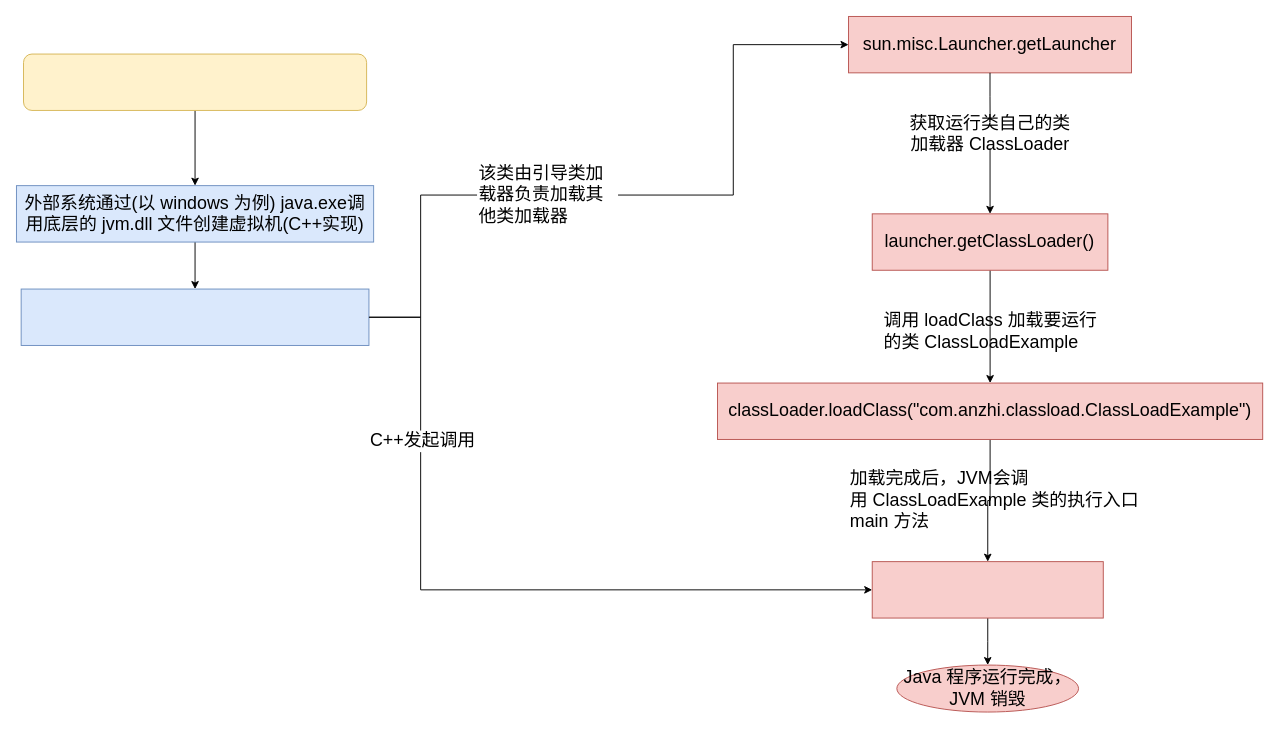
Some shapes in this 1279 by 729 pixel diagram are drawn without their labels. Here are the shapes that lost their labels. From the top down, the centre of each, then its label:
At pixel 195 81: "com.anzhi.classload.ClassLoadExample".
At pixel 194 316: "创建一个引导类加载器实列(C++实现)".
At pixel 987 589: "ClassLoadExample.main()".
